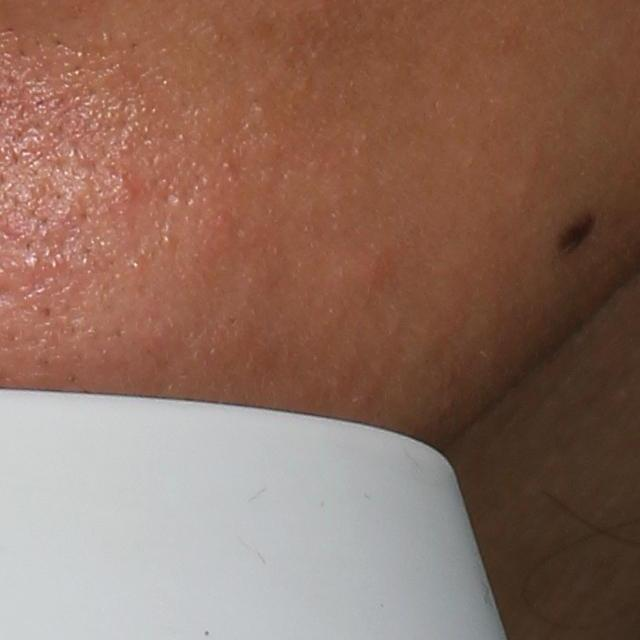nevus: (551, 208, 594, 262)
